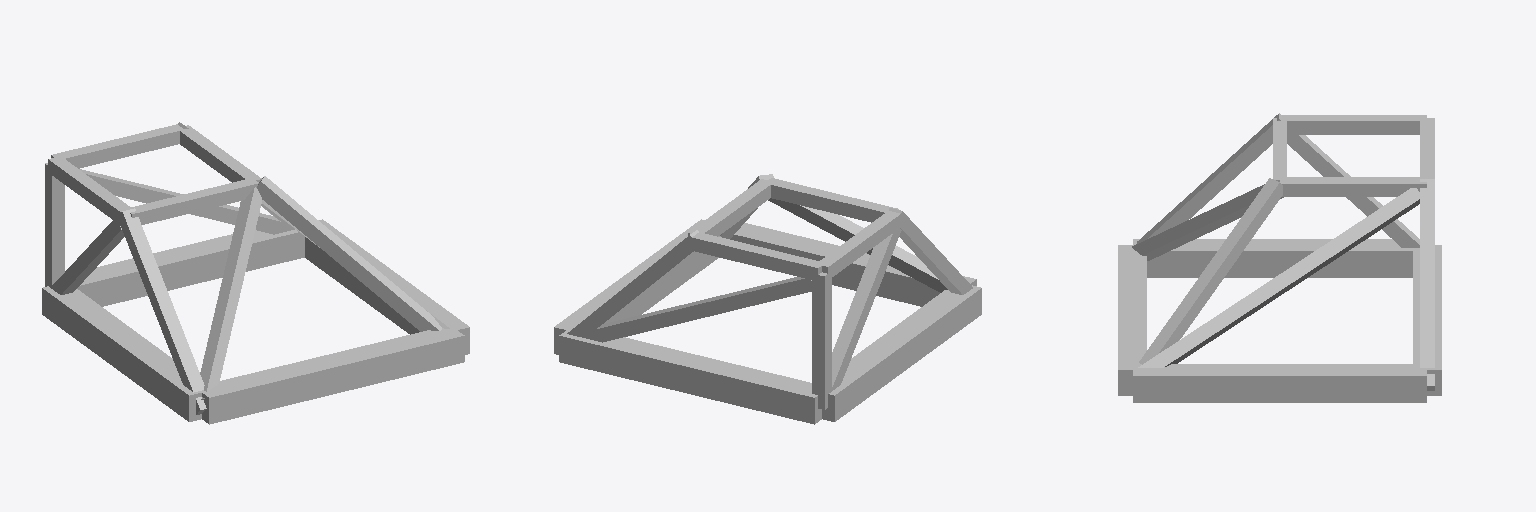
File: truss_smallmedium.obj
The picture shows the model from 3 angles: view 1: azimuth 30°, elevation 25°; view 2: azimuth 150°, elevation 25°; view 3: azimuth 270°, elevation 25°; orthographic projection.
Parts seen in each view (by area): view 1: Cube1; view 2: Cube1; view 3: Cube1.
Boxes of the visible parts, <box> form: Cube1: <box>42,122,469,424</box>; Cube1: <box>554,174,981,424</box>; Cube1: <box>1118,113,1441,402</box>.
Size of the model in its own units: 2.2 by 1.17 by 2.2.